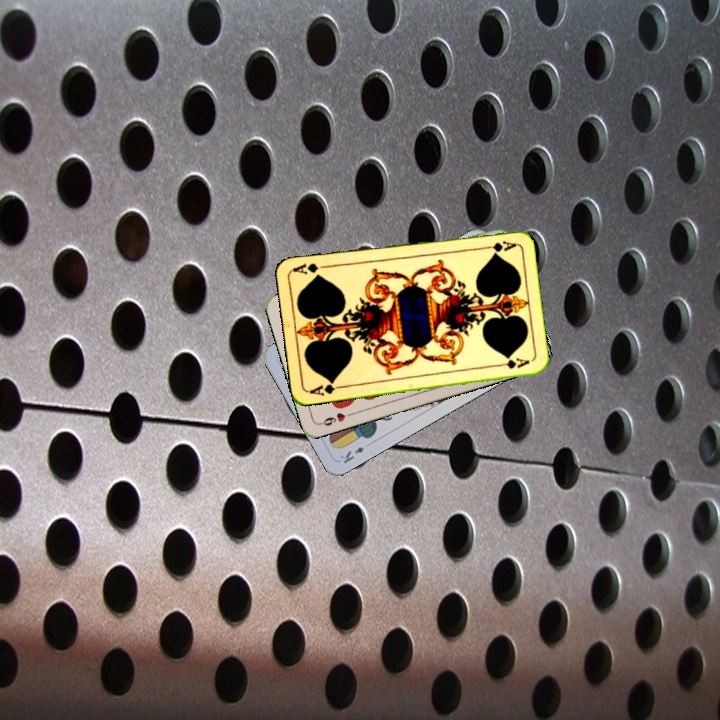EK: (336, 442, 367, 466)
GA: (306, 377, 346, 398), (478, 236, 518, 254)
H9: (316, 408, 356, 428)
